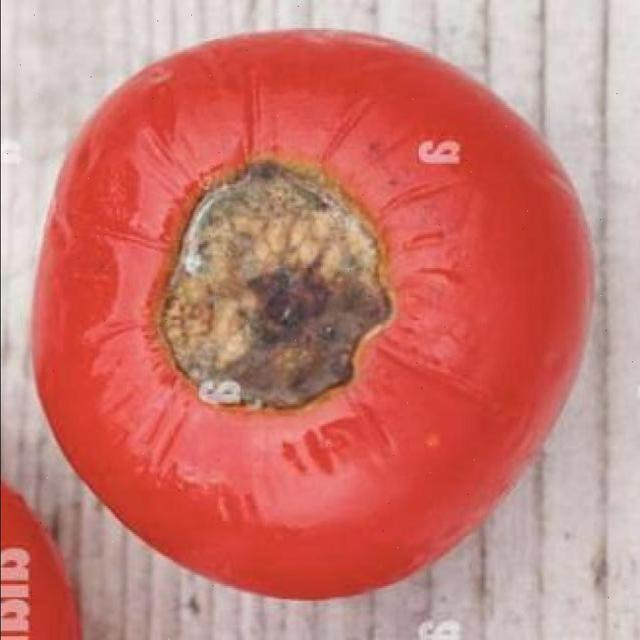Blossom End Rot Fruit: (103, 104, 263, 276)
